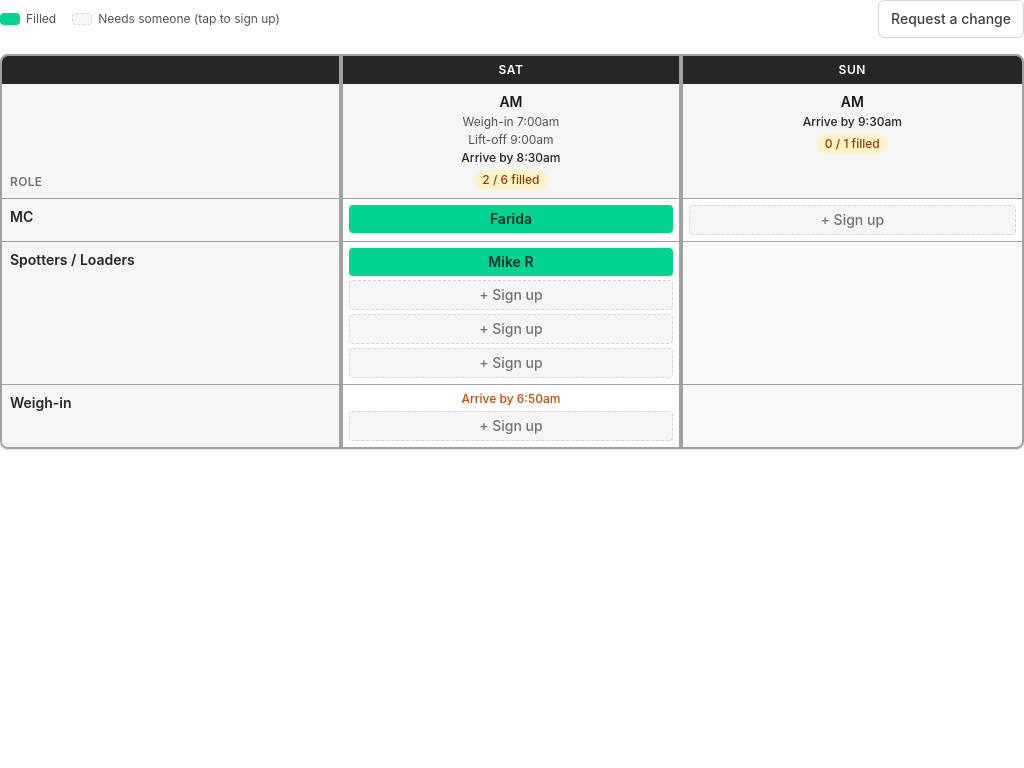
PublicRotaBoard — signing up › opens a sign-up pop-up for the tapped slot
Expected: the field labelled "Your name" is not shown
Click the button with aria-label "Sign up for Sat AM · Weigh-in": click(511, 426) [349,411,673,441]
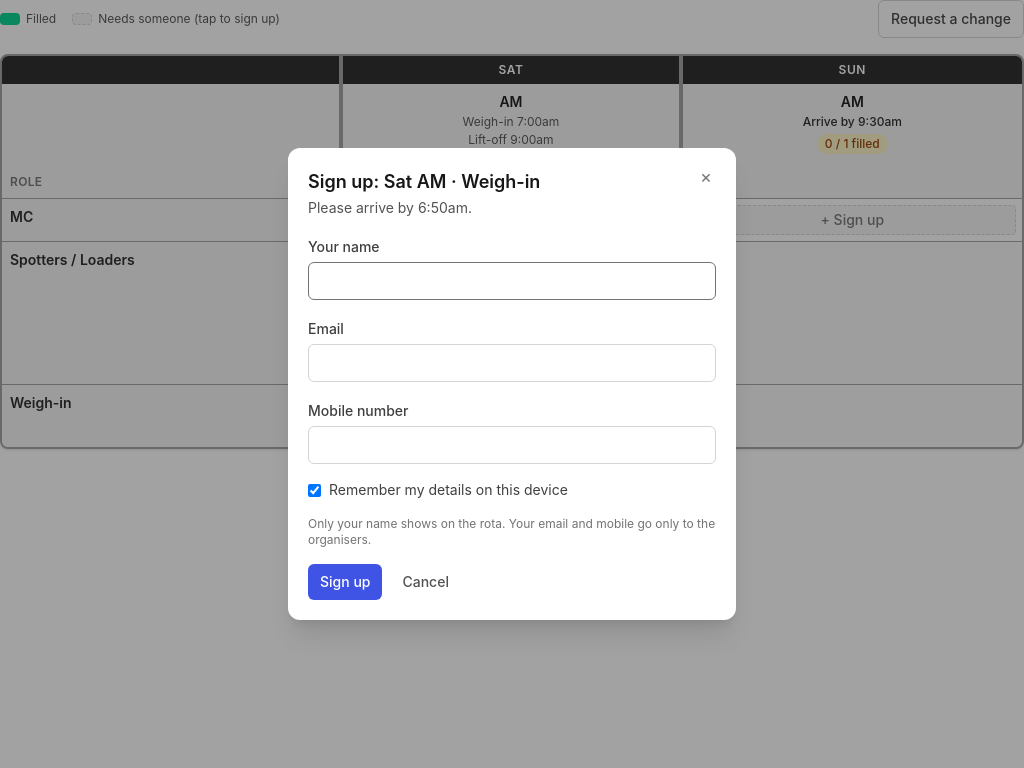
Expected: the text "Please arrive by 6:50am." is shown, [308,199,472,216]
Expected: the field labelled "Your name" is shown, [308,262,716,300]
Expected: the field labelled "Email" is shown, [308,344,716,382]
